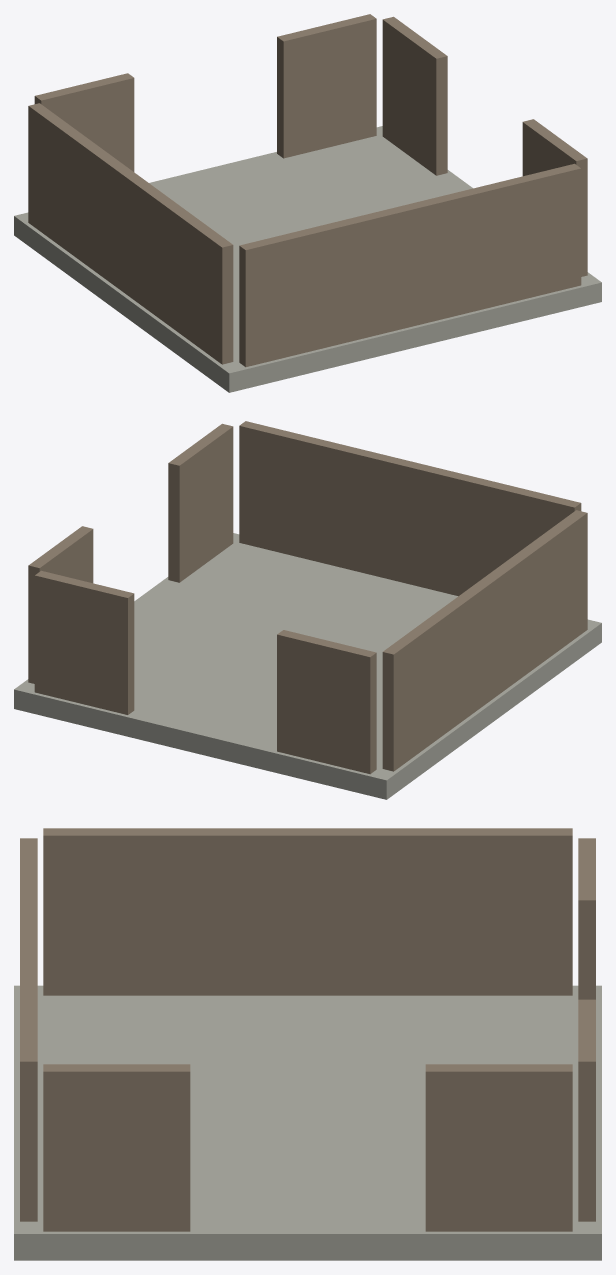
File: passage-elbow.glb
The picture shows the model from 3 angles, top to bottom: view 1: azimuth 30°, elevation 25°; view 2: azimuth 150°, elevation 25°; view 3: azimuth 270°, elevation 25°; orthographic projection. The views are drawn at different scales.
Parts seen in each view (by area): view 1: elbow_S_panel_0, elbow_floor, elbow_W_panel_0, elbow_N_panel_1, elbow_E_panel_1, elbow_N_panel_0, elbow_E_panel_0; view 2: elbow_floor, elbow_S_panel_0, elbow_W_panel_0, elbow_N_panel_1, elbow_N_panel_0, elbow_E_panel_0, elbow_E_panel_1; view 3: elbow_floor, elbow_W_panel_0, elbow_E_panel_0, elbow_E_panel_1, elbow_S_panel_0, elbow_N_panel_1, elbow_N_panel_0.
Boxes of the visible parts, box(x1,y1,x2,y2) form: elbow_S_panel_0: box(239, 163, 581, 367); elbow_floor: box(14, 126, 601, 392); elbow_W_panel_0: box(28, 103, 233, 364); elbow_N_panel_1: box(277, 14, 376, 158); elbow_E_panel_1: box(382, 16, 447, 175); elbow_N_panel_0: box(34, 73, 134, 171); elbow_E_panel_0: box(522, 119, 587, 276); elbow_floor: box(14, 533, 601, 799); elbow_S_panel_0: box(239, 421, 581, 596); elbow_W_panel_0: box(382, 510, 587, 771); elbow_N_panel_1: box(34, 570, 134, 714); elbow_N_panel_0: box(277, 630, 376, 774); elbow_E_panel_0: box(168, 423, 233, 582); elbow_E_panel_1: box(28, 526, 93, 683); elbow_floor: box(14, 985, 601, 1260); elbow_W_panel_0: box(43, 828, 572, 995); elbow_E_panel_0: box(43, 1064, 190, 1231); elbow_E_panel_1: box(425, 1064, 572, 1231); elbow_S_panel_0: box(20, 838, 37, 1221); elbow_N_panel_1: box(578, 999, 595, 1221); elbow_N_panel_0: box(578, 838, 595, 999).
Bounding box in the file's own units: 4 × 1.4 × 4.
